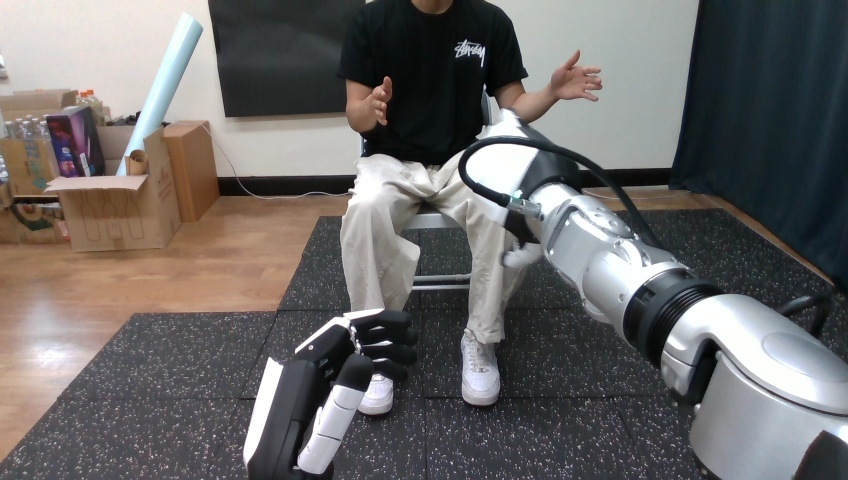left robot hand: (459, 109, 847, 478), (244, 309, 416, 478), (549, 50, 601, 100)
